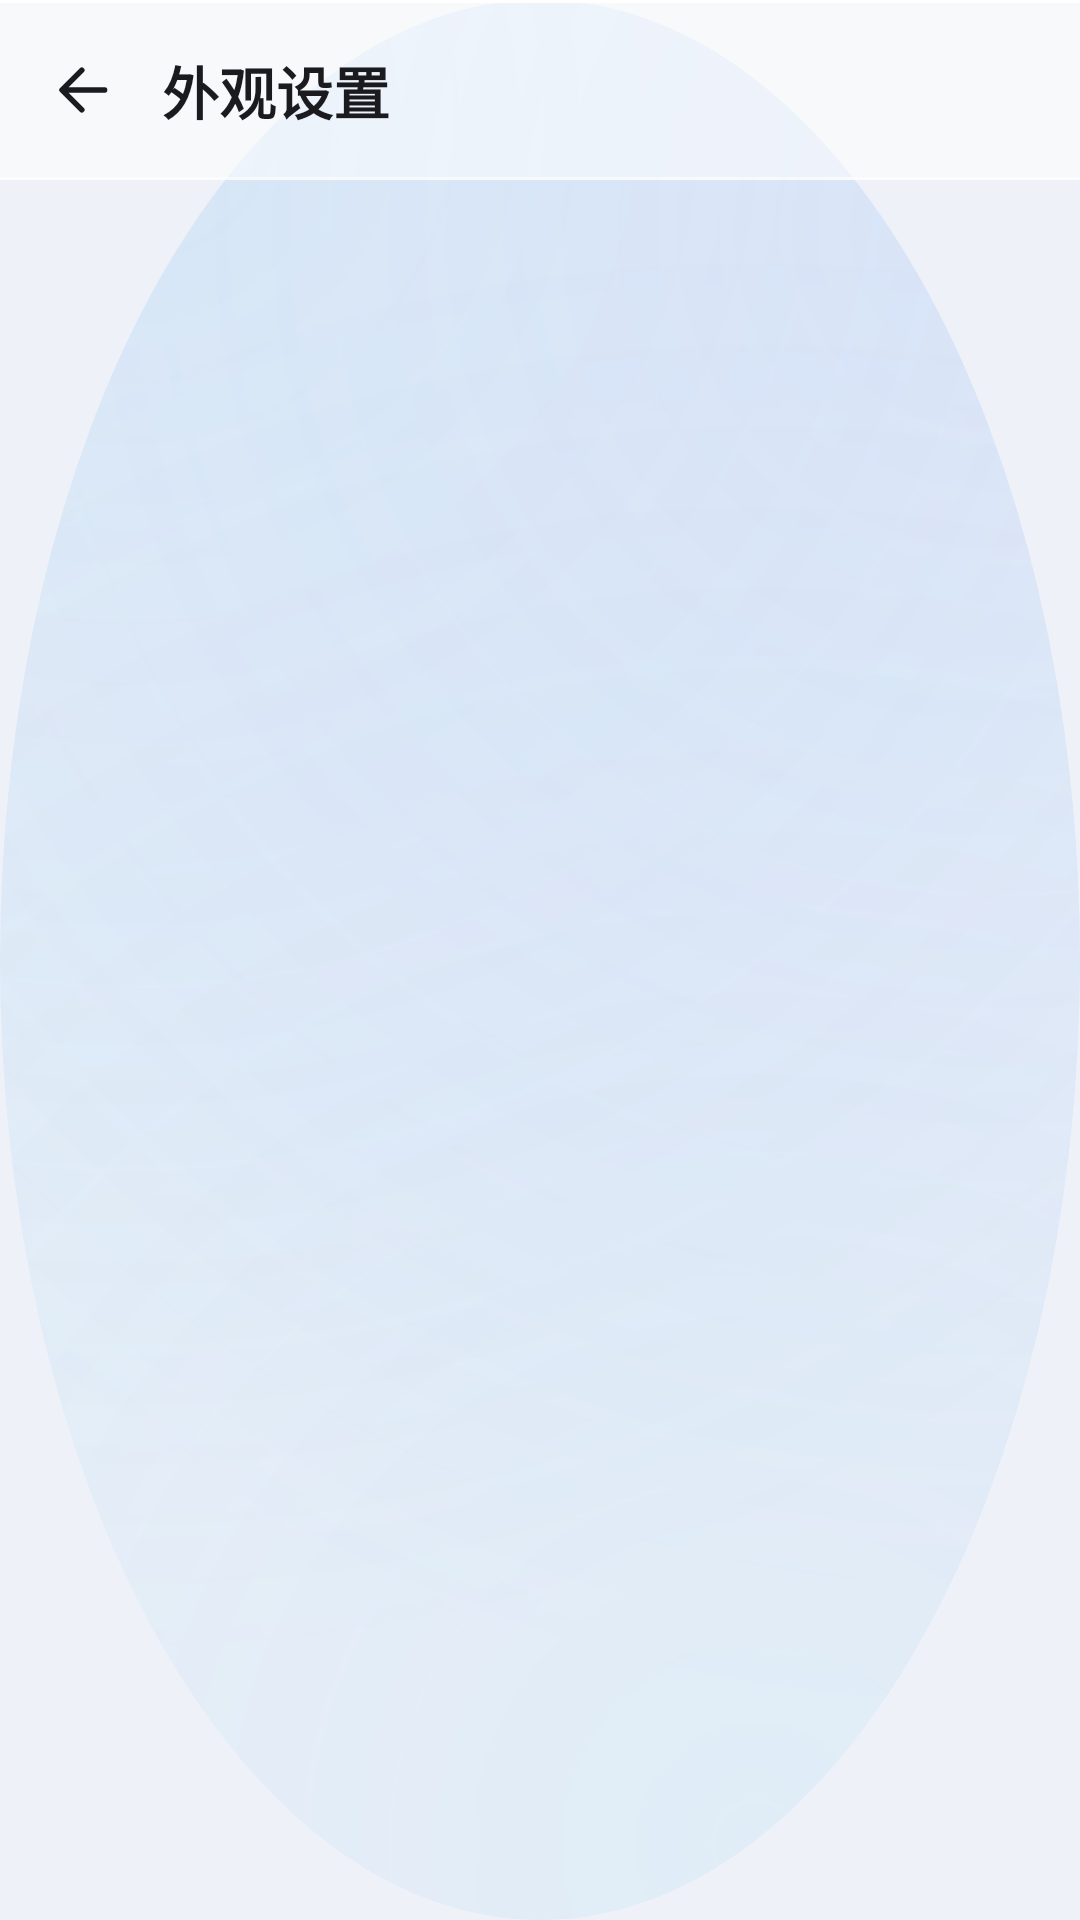

Locate icon controls on the screen. Image size 1080w x 1920h, boxes as (x1,y1,x2,y2).
返回: (59,67,108,113)
